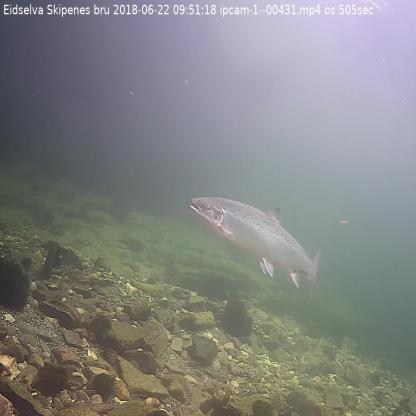salmon: (189, 196, 322, 295)
